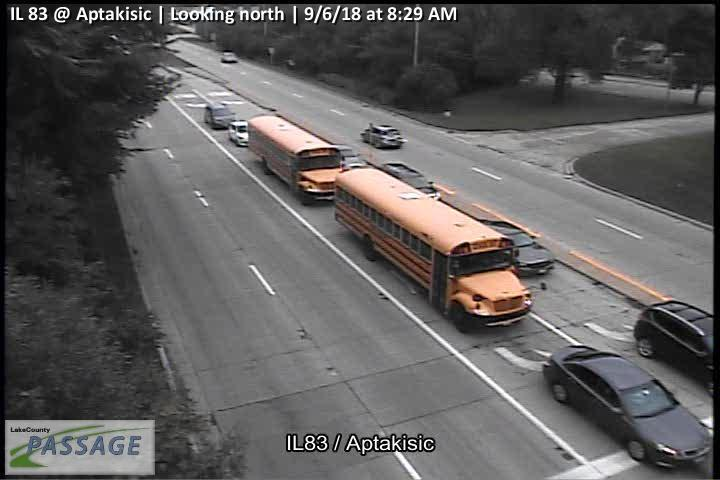Bus: (335, 164, 531, 333), (247, 113, 348, 204)
SUV: (633, 300, 712, 378), (379, 161, 438, 202), (360, 123, 403, 149), (204, 103, 237, 129), (227, 119, 253, 147), (220, 51, 239, 63)
Sedan: (544, 344, 711, 472), (475, 218, 554, 278)
